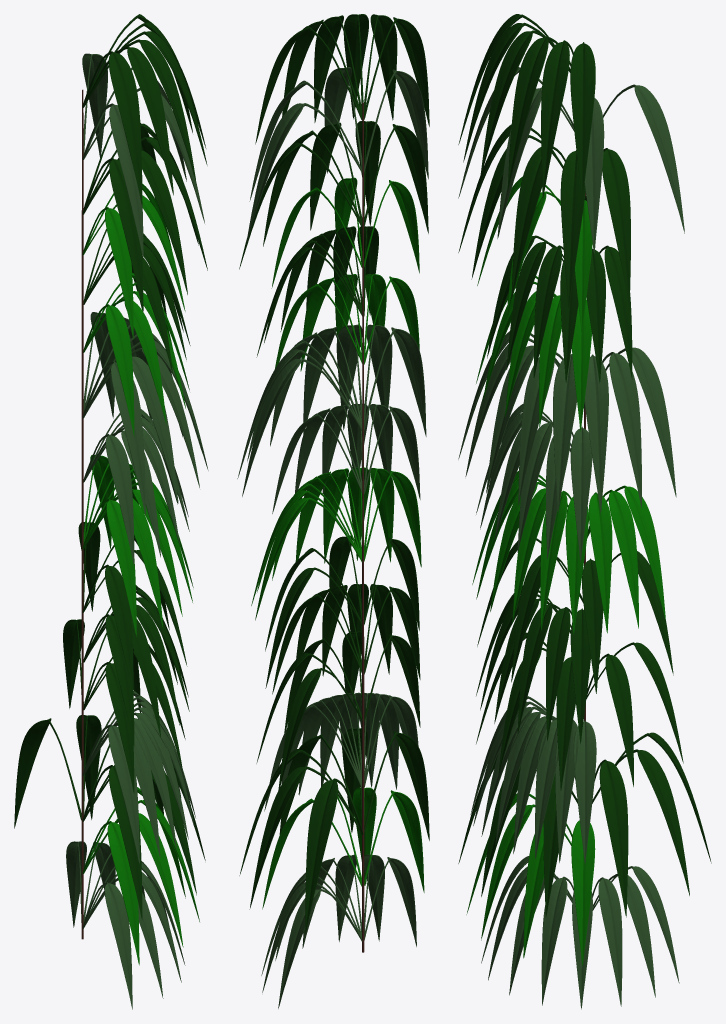
Rendered from plant1_quarter.fbx.
3 views of the same model, side by side, from view 1: azimuth 30°, elevation 25°; view 2: azimuth 150°, elevation 25°; view 3: azimuth 270°, elevation 25° (orthographic).
Parts seen in each view (by area): view 1: Circle.048, Circle.046, Circle.054, Circle.045, Circle.058, Circle.059, Circle.049, Circle.055, Circle.052, Circle.050, Circle.053, Circle.060 (+5 smaller); view 2: Circle.046, Circle.048, Circle.058, Circle.045, Circle.054, Circle.049, Circle.059, Circle.052, Circle.055, Circle.050, Circle.057, Circle.053 (+5 smaller); view 3: Circle.046, Circle.045, Circle.048, Circle.054, Circle.059, Circle.049, Circle.047, Circle.058, Circle.055, Circle.052, Circle.057, Circle.050 (+4 smaller).
Part boxes in pixels (<box>): Circle.048: <box>82,14,207,206</box>; Circle.046: <box>82,312,208,515</box>; Circle.054: <box>82,691,195,863</box>; Circle.045: <box>82,455,193,636</box>; Circle.058: <box>14,715,205,919</box>; Circle.059: <box>66,841,185,1009</box>; Circle.049: <box>82,123,207,312</box>; Circle.055: <box>83,585,189,746</box>; Circle.052: <box>83,409,189,565</box>; Circle.050: <box>82,53,204,257</box>; Circle.053: <box>83,273,189,436</box>; Circle.060: <box>82,787,199,965</box>; Circle.046: <box>237,324,426,496</box>; Circle.048: <box>255,14,429,144</box>; Circle.058: <box>239,728,429,933</box>; Circle.045: <box>251,467,421,620</box>; Circle.054: <box>264,692,418,811</box>; Circle.049: <box>239,121,428,269</box>; Circle.059: <box>261,854,416,1008</box>; Circle.052: <box>272,403,420,513</box>; Circle.055: <box>272,584,420,694</box>; Circle.050: <box>246,67,428,243</box>; Circle.057: <box>256,631,420,792</box>; Circle.053: <box>275,274,419,371</box>; Circle.046: <box>458,331,676,513</box>; Circle.045: <box>472,471,665,633</box>; Circle.048: <box>458,14,595,201</box>; Circle.054: <box>470,696,596,864</box>; Circle.059: <box>481,856,679,1009</box>; Circle.049: <box>458,124,630,307</box>; Circle.047: <box>487,235,632,383</box>; Circle.058: <box>458,732,711,917</box>; Circle.055: <box>476,585,590,743</box>; Circle.052: <box>476,403,592,562</box>; Circle.057: <box>476,632,683,790</box>; Circle.050: <box>458,67,684,253</box>.
Size of the model in its own units: 32.09 by 234 by 56.59.
